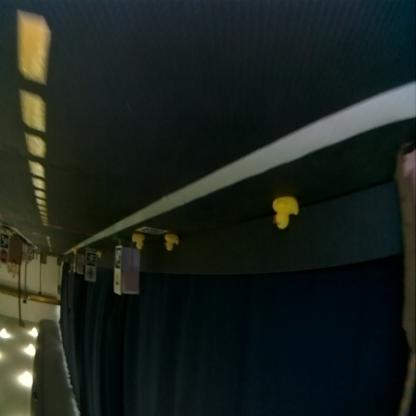Duckie: (272, 198, 296, 230), (164, 235, 178, 251), (132, 234, 143, 250), (71, 247, 77, 255), (97, 251, 102, 259)
Intersection sign: (114, 273, 119, 291), (86, 269, 94, 280)
QR code: (136, 227, 166, 235), (114, 248, 120, 268), (86, 254, 94, 265)
